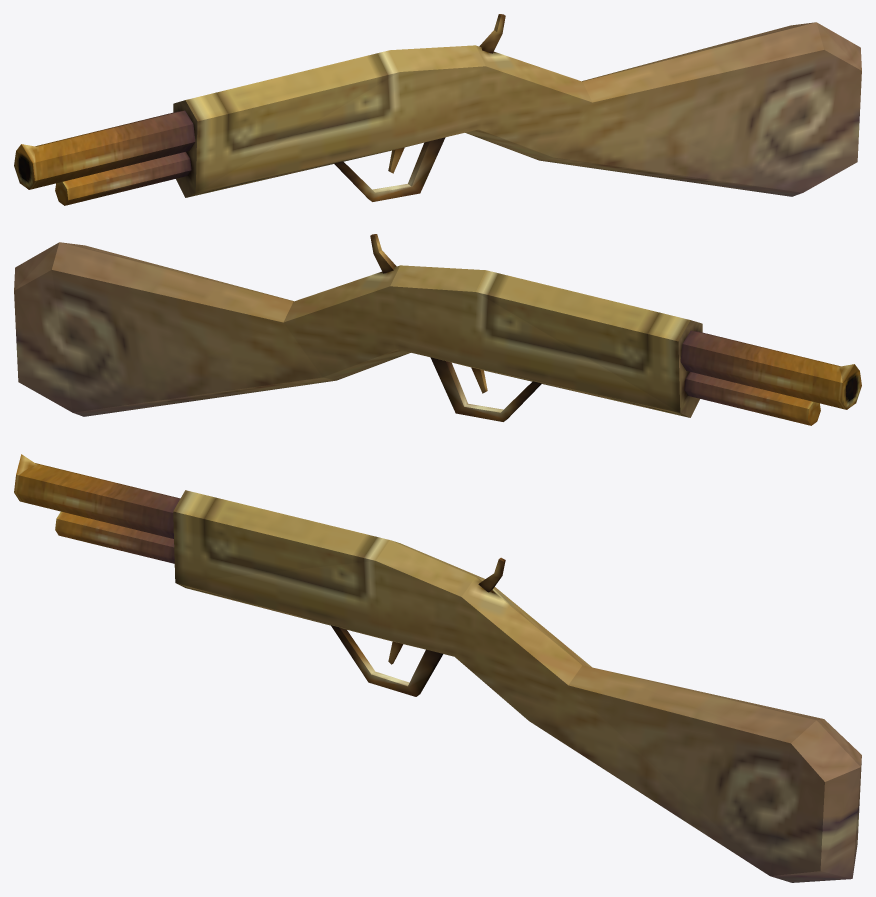
Rendered from Rabbit_noviceGun.obj.
The picture shows the model from 3 angles, top to bottom: view 1: azimuth 30°, elevation 25°; view 2: azimuth 150°, elevation 25°; view 3: azimuth 330°, elevation 25°; orthographic projection.
Visible parts, largest first — view 1: Rabbit_noviceGun_tri; view 2: Rabbit_noviceGun_tri; view 3: Rabbit_noviceGun_tri.
Part boxes in pixels (x1,y1,x2,y2): Rabbit_noviceGun_tri: [14, 14, 861, 205]; Rabbit_noviceGun_tri: [14, 234, 861, 425]; Rabbit_noviceGun_tri: [14, 454, 861, 882].
Bounding box in the file's own units: 0.5982 × 0.1725 × 0.0458.
Materials: 1 (1 with a texture image).
